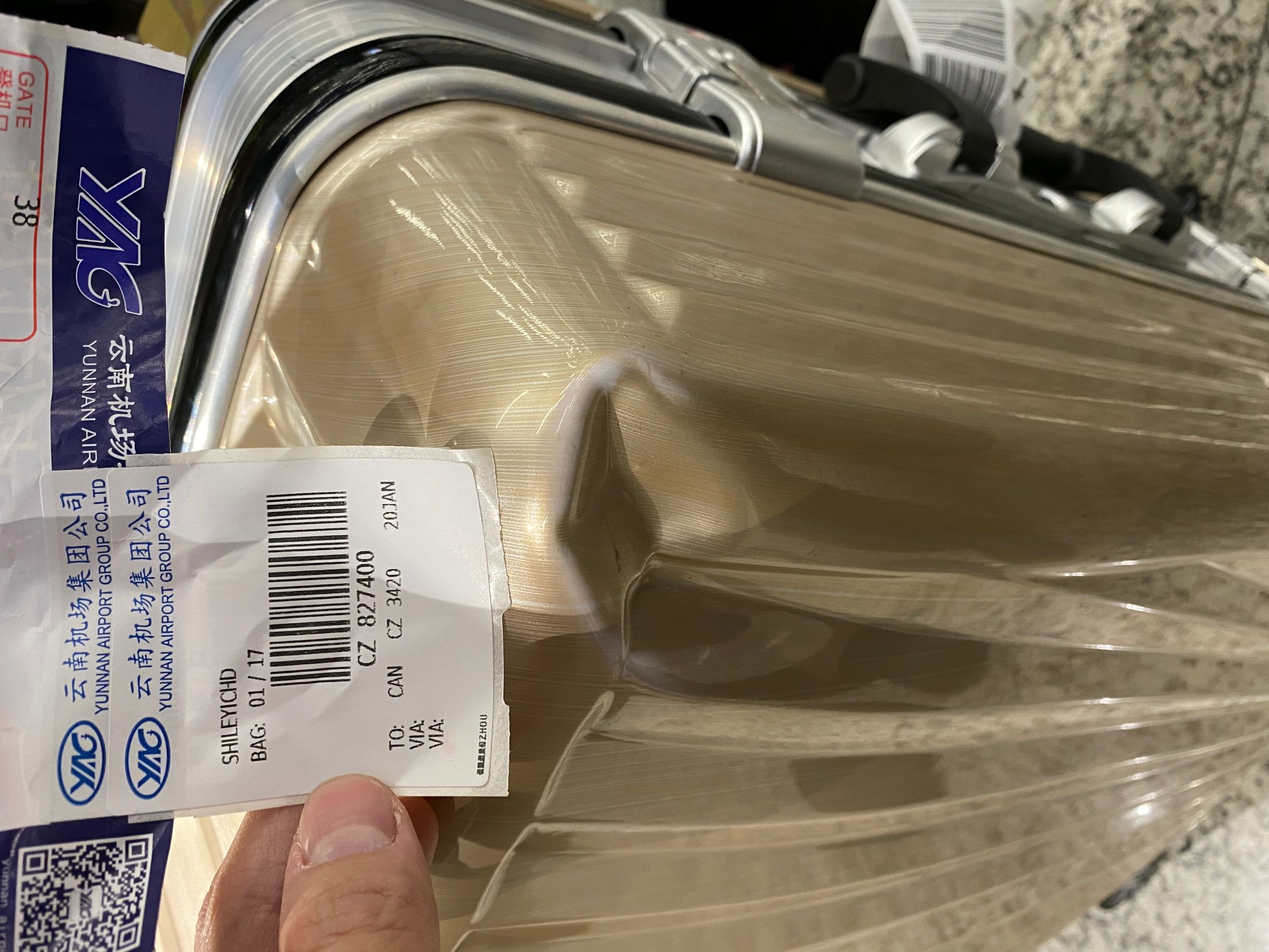hollow: (546, 349, 736, 678)
